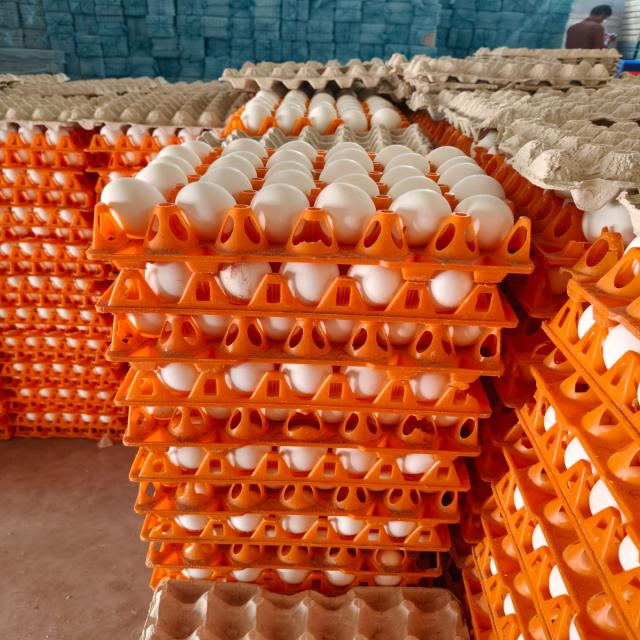egg_tray: (90, 138, 532, 282), (107, 314, 502, 393), (97, 260, 516, 328), (523, 394, 639, 627), (115, 252, 529, 315), (496, 463, 637, 640), (481, 154, 633, 317), (410, 82, 637, 184), (126, 407, 478, 472), (127, 391, 477, 456), (136, 482, 459, 550), (476, 152, 634, 290), (143, 486, 453, 553), (115, 363, 490, 417), (479, 154, 634, 280), (478, 154, 634, 279), (143, 580, 467, 640), (517, 368, 639, 524), (486, 494, 616, 640), (125, 406, 478, 458), (543, 248, 639, 438), (140, 136, 444, 196), (135, 480, 460, 532), (130, 445, 469, 491), (148, 542, 441, 594), (467, 510, 570, 640), (411, 110, 546, 207), (463, 512, 565, 640), (479, 154, 606, 256), (147, 542, 441, 586), (411, 111, 543, 208), (451, 128, 570, 232), (475, 149, 585, 259), (141, 512, 450, 551), (3, 80, 247, 129), (150, 554, 441, 595), (474, 148, 585, 254), (2, 345, 126, 438), (472, 133, 581, 238), (463, 536, 572, 640), (499, 112, 639, 191), (474, 132, 581, 234), (0, 231, 115, 324), (470, 131, 572, 233), (505, 232, 624, 318), (0, 294, 121, 378), (0, 120, 203, 170), (409, 110, 523, 199), (0, 123, 202, 172), (0, 242, 114, 325), (463, 536, 553, 640), (0, 292, 118, 368), (221, 89, 409, 136), (492, 170, 587, 262), (198, 124, 431, 161), (472, 147, 571, 232), (410, 110, 508, 195), (85, 123, 202, 194), (465, 416, 538, 527), (485, 318, 575, 408), (0, 237, 114, 307), (0, 239, 115, 308), (567, 240, 639, 350), (0, 125, 94, 209), (3, 371, 126, 434), (564, 538, 639, 640), (0, 226, 114, 293), (401, 56, 610, 92), (463, 558, 552, 640), (575, 514, 639, 628), (516, 342, 606, 423), (0, 227, 115, 282), (0, 238, 115, 293), (462, 555, 534, 640), (493, 310, 554, 408), (468, 390, 530, 486), (0, 82, 104, 139), (219, 58, 392, 92), (412, 111, 505, 174), (0, 73, 158, 108), (0, 358, 125, 402), (0, 257, 110, 307), (474, 381, 528, 482), (0, 204, 93, 261), (3, 376, 125, 418), (0, 353, 126, 392), (0, 274, 108, 319), (409, 105, 497, 160), (85, 123, 202, 164), (87, 132, 161, 195), (4, 378, 126, 416), (561, 225, 637, 285), (0, 123, 90, 173), (0, 326, 112, 366), (453, 458, 496, 561), (0, 359, 126, 393), (9, 404, 125, 440), (471, 483, 516, 574), (0, 204, 93, 247), (0, 169, 95, 210), (474, 47, 620, 73), (0, 167, 92, 208), (482, 402, 535, 470), (3, 281, 102, 317), (446, 527, 481, 626), (461, 456, 505, 532), (432, 528, 470, 601), (0, 306, 112, 330), (2, 341, 106, 366), (442, 520, 475, 596), (438, 527, 472, 598), (468, 424, 506, 484), (357, 69, 414, 108), (87, 164, 146, 201), (502, 414, 539, 469), (428, 148, 483, 182), (480, 403, 521, 448), (376, 52, 413, 99), (501, 284, 543, 323), (325, 368, 388, 393), (495, 175, 543, 205), (418, 112, 454, 144), (457, 176, 503, 199), (161, 145, 200, 170), (608, 203, 630, 243), (413, 375, 447, 395), (229, 366, 260, 386), (443, 214, 469, 237), (0, 401, 13, 440), (451, 128, 471, 144), (531, 463, 546, 484), (513, 156, 531, 173), (603, 349, 619, 368), (526, 184, 542, 202), (53, 308, 72, 323), (459, 494, 470, 519), (294, 368, 312, 382), (529, 288, 541, 308), (31, 310, 49, 323), (556, 616, 568, 634), (269, 375, 282, 391), (561, 218, 574, 233), (42, 325, 66, 333), (550, 271, 560, 290), (415, 91, 426, 108), (481, 156, 493, 171), (487, 472, 503, 483), (232, 207, 250, 216), (544, 232, 557, 244), (340, 520, 351, 534), (126, 155, 140, 166), (485, 137, 495, 152), (497, 454, 507, 469), (455, 576, 463, 594), (129, 221, 140, 234), (0, 228, 14, 238), (532, 472, 543, 484), (389, 525, 402, 535), (583, 211, 597, 220), (478, 400, 487, 414), (502, 537, 513, 548), (503, 165, 513, 177), (57, 229, 81, 234), (24, 324, 39, 332), (562, 496, 569, 512), (519, 538, 530, 548), (19, 279, 30, 289), (87, 118, 105, 124), (193, 483, 205, 492), (203, 230, 215, 239), (123, 271, 135, 279), (165, 367, 178, 374), (26, 328, 41, 334), (82, 312, 93, 320), (74, 360, 91, 365), (10, 317, 22, 324), (561, 224, 570, 233), (556, 616, 564, 626), (509, 276, 522, 282), (507, 597, 513, 609), (357, 490, 365, 499), (138, 228, 146, 237), (594, 226, 601, 236), (482, 286, 492, 293), (367, 499, 373, 510), (42, 228, 55, 233), (594, 228, 601, 237), (594, 227, 601, 236), (491, 564, 497, 574), (36, 200, 46, 206), (473, 516, 477, 530), (163, 485, 171, 492), (481, 438, 487, 447), (67, 370, 76, 376), (497, 525, 503, 534), (217, 488, 226, 494), (9, 362, 22, 366), (189, 575, 206, 578), (43, 289, 50, 296), (198, 505, 205, 512), (102, 282, 108, 290), (157, 78, 165, 84), (201, 155, 207, 163), (320, 141, 326, 149), (65, 82, 74, 87), (248, 558, 257, 563), (483, 634, 494, 638), (547, 235, 553, 242), (566, 610, 572, 616), (524, 530, 530, 536), (571, 208, 577, 214), (90, 250, 96, 256), (27, 281, 32, 288), (463, 557, 468, 564), (562, 227, 569, 232), (170, 252, 177, 257), (229, 487, 234, 494), (567, 611, 572, 618), (32, 320, 40, 324), (149, 397, 157, 401), (162, 501, 166, 509), (15, 329, 25, 332), (595, 230, 600, 236), (491, 480, 496, 486), (535, 465, 541, 470), (547, 236, 553, 241), (385, 216, 391, 221), (386, 490, 396, 493), (32, 363, 42, 366), (548, 179, 555, 183), (212, 139, 219, 143), (0, 130, 3, 139), (138, 211, 141, 220), (556, 313, 561, 318), (610, 224, 616, 228), (491, 394, 494, 402), (442, 554, 446, 560), (479, 543, 483, 549), (575, 543, 581, 547), (175, 398, 181, 402), (253, 376, 257, 382), (509, 544, 513, 550), (178, 486, 184, 490), (270, 177, 276, 181), (576, 245, 579, 252), (173, 140, 180, 143), (3, 250, 7, 255), (497, 476, 501, 481), (509, 410, 514, 414), (294, 385, 298, 390), (15, 320, 20, 324), (469, 549, 473, 554), (551, 180, 556, 184), (517, 530, 522, 534), (21, 111, 26, 115), (86, 228, 90, 233), (351, 84, 355, 89), (539, 275, 543, 280), (181, 255, 185, 260), (90, 162, 95, 166), (301, 559, 305, 564), (318, 548, 322, 553), (560, 600, 565, 604), (281, 237, 285, 242), (36, 304, 46, 306), (49, 327, 55, 330), (510, 112, 513, 118), (12, 285, 18, 288), (629, 432, 632, 438), (79, 326, 85, 329), (485, 86, 491, 89), (585, 538, 588, 544), (452, 115, 455, 121), (103, 340, 107, 344), (605, 116, 609, 120), (470, 540, 478, 542), (474, 620, 478, 624), (51, 117, 55, 121), (51, 287, 55, 291), (547, 237, 551, 241), (568, 341, 572, 345), (5, 175, 9, 179), (60, 338, 65, 341), (512, 276, 517, 279), (466, 612, 469, 617), (549, 263, 554, 266), (66, 285, 71, 288), (0, 279, 3, 284), (476, 627, 479, 632), (572, 219, 575, 224), (552, 180, 557, 183), (309, 157, 314, 160), (576, 192, 579, 197), (165, 254, 170, 257), (487, 484, 490, 489), (469, 466, 472, 471), (583, 229, 586, 234), (202, 136, 207, 139), (472, 479, 474, 486), (577, 219, 579, 226), (41, 392, 44, 396), (596, 233, 599, 237), (60, 321, 64, 324), (85, 314, 89, 317), (34, 330, 38, 333), (602, 421, 606, 424), (240, 465, 244, 468), (583, 230, 587, 233), (590, 238, 594, 241), (374, 221, 377, 225), (594, 365, 597, 369), (481, 481, 485, 484), (472, 142, 475, 146), (363, 503, 366, 507), (217, 498, 220, 502), (385, 184, 388, 188), (351, 240, 355, 243), (390, 558, 395, 560), (82, 322, 87, 324), (470, 86, 475, 88), (205, 158, 207, 163), (310, 377, 312, 382), (488, 490, 490, 495), (448, 184, 453, 186), (558, 205, 561, 208), (60, 304, 63, 307), (109, 322, 112, 325), (568, 616, 571, 619), (567, 225, 570, 228), (466, 549, 469, 552), (10, 327, 13, 330), (12, 255, 15, 258), (82, 296, 85, 299), (428, 495, 431, 498), (263, 489, 266, 492), (20, 320, 22, 324), (492, 131, 494, 135), (545, 555, 547, 559), (554, 397, 556, 401), (472, 142, 474, 146), (373, 58, 377, 60), (596, 233, 598, 237), (124, 402, 128, 404), (119, 398, 121, 402), (315, 394, 317, 398), (449, 503, 450, 511), (145, 498, 149, 500), (14, 391, 16, 395), (386, 550, 393, 551), (603, 345, 604, 352), (465, 613, 467, 616), (9, 330, 12, 332), (511, 200, 514, 202), (23, 248, 26, 250), (634, 114, 636, 117), (4, 130, 5, 136), (596, 222, 599, 224), (625, 595, 628, 597), (102, 114, 104, 117), (534, 153, 537, 155), (513, 635, 516, 637), (518, 512, 521, 514), (426, 102, 429, 104), (182, 470, 185, 472), (170, 456, 172, 459), (81, 322, 87, 323), (483, 602, 485, 605), (403, 109, 405, 112), (257, 165, 259, 168), (20, 243, 26, 244), (634, 564, 636, 567), (83, 81, 89, 82), (116, 80, 119, 82), (421, 309, 427, 310), (286, 308, 288, 311), (283, 372, 286, 374), (471, 480, 474, 482), (623, 635, 626, 637), (213, 487, 216, 489), (541, 586, 543, 589), (139, 187, 142, 189), (586, 387, 588, 390), (512, 278, 517, 279), (410, 382, 411, 387), (475, 474, 476, 479), (199, 143, 204, 144), (633, 182, 634, 186), (557, 110, 561, 111), (629, 180, 633, 181), (539, 174, 541, 176), (464, 140, 466, 142), (98, 322, 100, 324), (479, 542, 481, 544), (592, 239, 594, 241), (537, 313, 539, 315), (594, 582, 596, 584), (139, 302, 140, 306), (175, 208, 177, 210), (364, 398, 366, 400), (377, 393, 379, 395), (290, 558, 292, 560), (551, 192, 553, 194), (105, 200, 107, 202), (421, 145, 423, 147), (585, 396, 589, 397), (82, 249, 83, 252), (465, 536, 466, 539), (26, 118, 29, 119), (508, 327, 511, 328), (75, 312, 76, 315), (616, 229, 619, 230), (549, 247, 552, 248), (60, 305, 63, 306), (42, 330, 43, 332), (58, 329, 60, 330), (560, 200, 561, 202), (538, 107, 540, 108), (624, 214, 626, 215), (36, 311, 37, 313), (36, 305, 38, 306), (80, 305, 82, 306), (560, 187, 562, 188), (514, 453, 516, 454), (21, 118, 22, 120), (420, 107, 422, 108), (134, 163, 136, 164), (81, 305, 83, 306), (476, 611, 478, 612), (53, 298, 55, 299), (25, 280, 26, 282), (550, 291, 552, 292), (564, 275, 565, 277), (62, 89, 64, 90), (307, 258, 308, 260), (163, 211, 164, 213), (472, 390, 473, 392), (262, 384, 263, 386), (622, 635, 623, 637), (258, 560, 259, 562), (287, 552, 289, 553), (122, 183, 124, 184), (391, 136, 392, 138), (27, 258, 28, 259), (465, 122, 466, 123), (609, 209, 610, 210), (589, 233, 590, 234), (13, 313, 14, 314), (45, 243, 46, 244), (474, 461, 475, 462), (481, 431, 482, 432), (518, 515, 519, 516), (25, 118, 26, 119), (247, 156, 248, 157), (318, 389, 319, 390), (387, 500, 388, 501), (185, 193, 186, 194), (131, 187, 132, 188), (81, 305, 82, 306), (581, 174, 581, 174), (85, 359, 86, 359), (76, 330, 77, 330), (63, 326, 63, 328), (524, 214, 526, 214), (330, 341, 330, 342), (183, 259, 183, 260), (596, 116, 596, 117), (465, 128, 466, 128), (467, 510, 468, 510), (496, 474, 496, 475), (424, 552, 429, 552), (503, 165, 503, 165), (85, 323, 86, 323), (69, 281, 72, 281), (463, 138, 463, 140), (478, 512, 479, 512), (559, 636, 565, 636), (526, 636, 529, 636), (521, 536, 521, 537), (410, 101, 410, 102), (170, 85, 170, 86), (87, 287, 87, 288), (70, 281, 72, 281), (8, 279, 10, 279), (330, 580, 330, 582), (188, 174, 190, 174), (570, 208, 570, 208), (62, 212, 64, 212), (69, 350, 70, 350), (483, 541, 483, 541), (485, 145, 485, 146), (343, 90, 343, 90), (565, 516, 565, 516), (554, 294, 555, 294), (590, 576, 590, 576), (326, 594, 328, 594), (571, 250, 572, 250), (598, 210, 599, 210), (521, 169, 521, 170), (422, 316, 423, 316), (332, 312, 335, 312), (134, 298, 134, 299), (352, 287, 352, 288), (101, 256, 101, 257), (396, 220, 396, 222), (450, 456, 450, 456), (321, 396, 321, 396), (285, 378, 285, 379), (320, 372, 321, 372), (467, 492, 468, 492), (616, 230, 617, 230), (350, 552, 350, 552), (143, 511, 143, 512), (159, 485, 159, 486), (287, 234, 287, 235), (139, 194, 139, 195), (147, 194, 148, 194), (147, 190, 148, 190), (406, 141, 408, 141), (478, 539, 479, 539), (501, 449, 501, 453), (560, 221, 560, 222), (581, 212, 581, 213), (405, 61, 405, 61)
